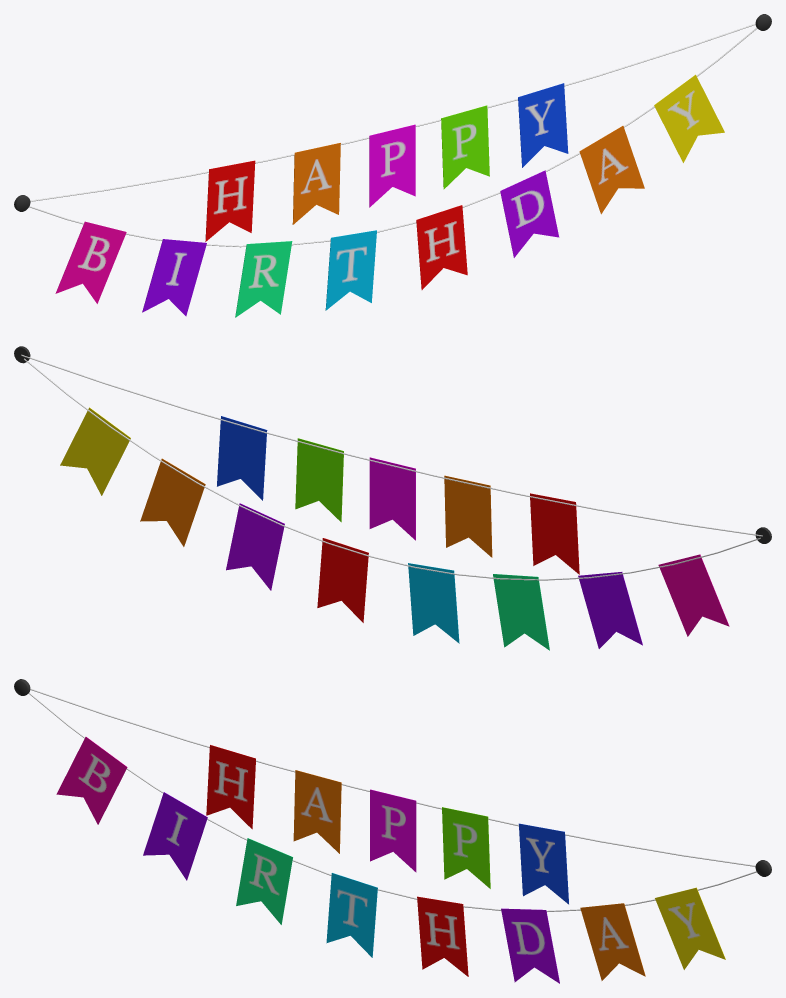
The model's file is PartyHangings01A_2.FBX.
The picture shows the model from 3 angles, top to bottom: view 1: azimuth 30°, elevation 25°; view 2: azimuth 150°, elevation 25°; view 3: azimuth 330°, elevation 25°; orthographic projection.
Visible parts, largest first — view 1: PartyHangings01A_2; view 2: PartyHangings01A_2; view 3: PartyHangings01A_2.
Boxes of the visible parts, x1,y1,x2,y2 form: PartyHangings01A_2: [14, 14, 771, 317]; PartyHangings01A_2: [14, 346, 771, 650]; PartyHangings01A_2: [14, 679, 771, 983].
Size of what is drawn, in the model's own units: 2.04 by 0.4981 by 0.0114.
